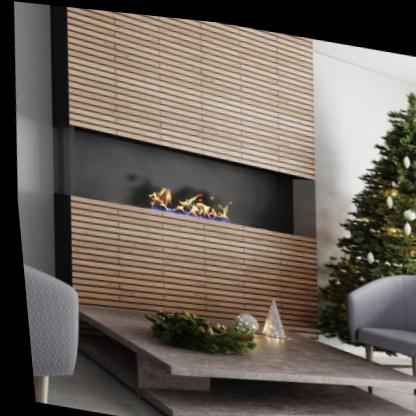Wall Panel: (68, 6, 314, 323)
